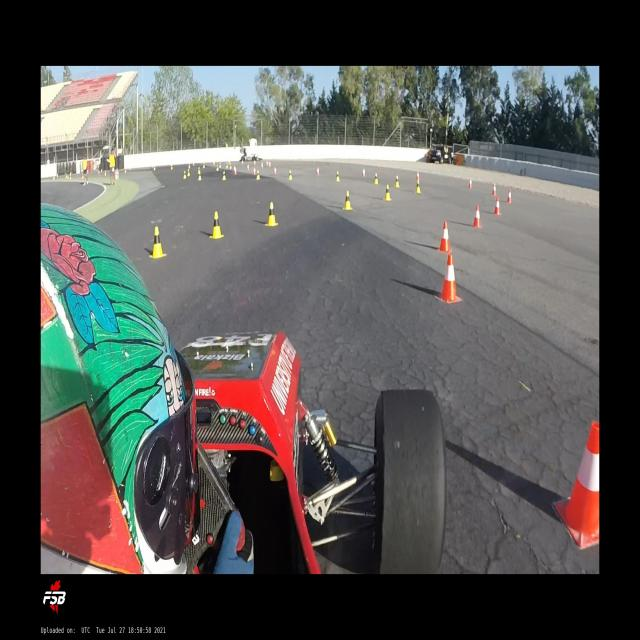orange_cone: (553, 421, 599, 549), (436, 254, 462, 303), (437, 220, 452, 253), (472, 205, 482, 228), (494, 197, 501, 215), (506, 189, 512, 203), (492, 183, 497, 196), (468, 178, 472, 188), (362, 168, 366, 178), (416, 171, 420, 180), (316, 167, 320, 175), (253, 167, 256, 175), (234, 166, 236, 175), (274, 167, 276, 175), (247, 164, 249, 170)
yellow_cone: (149, 226, 167, 259), (209, 211, 224, 239), (264, 202, 279, 226), (342, 190, 353, 210), (383, 183, 392, 201), (414, 178, 421, 194), (394, 175, 400, 188), (374, 173, 378, 185), (336, 170, 340, 182), (288, 169, 292, 180), (256, 169, 260, 180), (222, 170, 226, 180), (198, 170, 201, 181), (183, 169, 186, 179), (187, 168, 190, 176), (216, 164, 219, 171), (198, 166, 200, 174)
